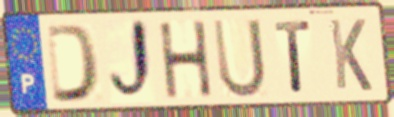D: (44, 22, 103, 105)
H: (156, 18, 216, 101)
J: (107, 16, 158, 106)
K: (327, 16, 375, 94)
T: (272, 18, 314, 95)
U: (210, 16, 269, 100)
